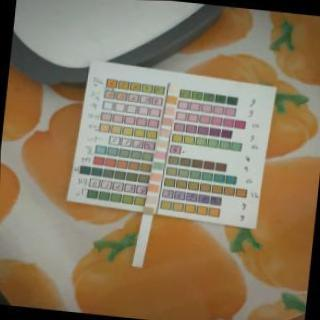mark: (144, 207, 154, 216), (147, 196, 157, 204), (162, 118, 172, 126), (150, 184, 158, 193), (152, 173, 160, 181), (158, 140, 166, 148), (169, 85, 177, 93), (154, 162, 162, 169), (156, 152, 164, 159), (168, 96, 175, 104), (167, 107, 174, 114), (161, 129, 168, 135)
